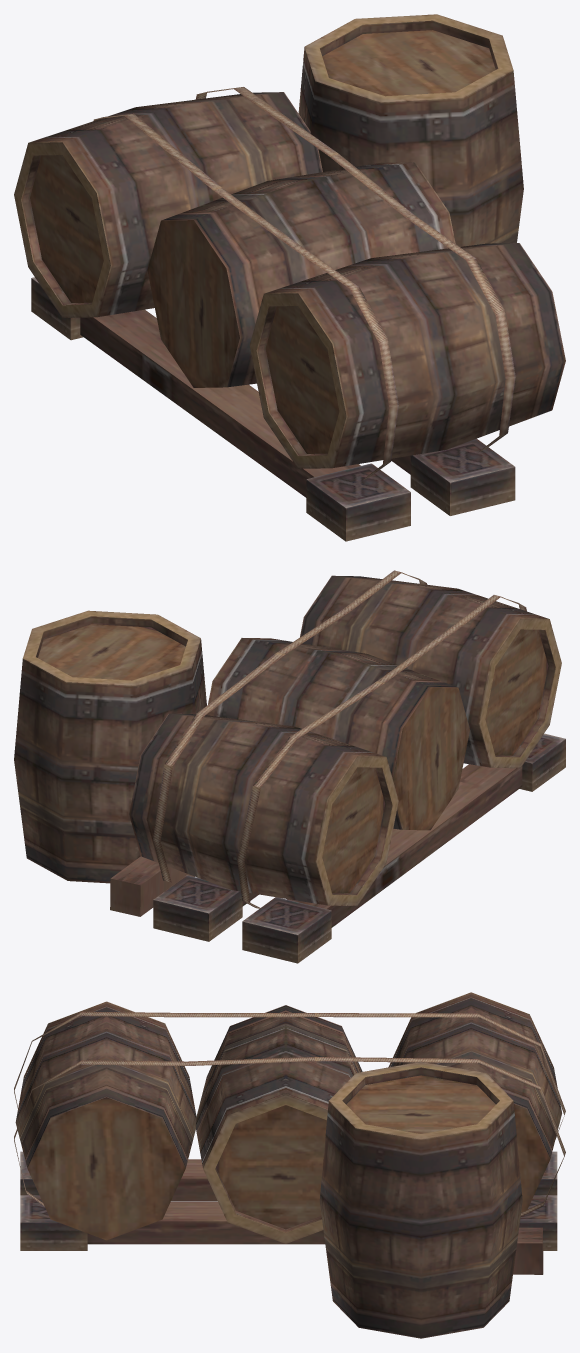
File: fld_wujian40_jgc.FBX
The picture shows the model from 3 angles, top to bottom: view 1: azimuth 30°, elevation 25°; view 2: azimuth 150°, elevation 25°; view 3: azimuth 270°, elevation 25°; orthographic projection. The views are drawn at different scales.
Visible parts, largest first — view 1: fld_wujian40_jgc; view 2: fld_wujian40_jgc; view 3: fld_wujian40_jgc.
Boxes of the visible parts, x1,y1,x2,y2 form: fld_wujian40_jgc: (14,14,565,541); fld_wujian40_jgc: (14,570,565,963); fld_wujian40_jgc: (14,992,565,1338).
Bounding box in the file's own units: 19.81 × 10.75 × 26.4.
